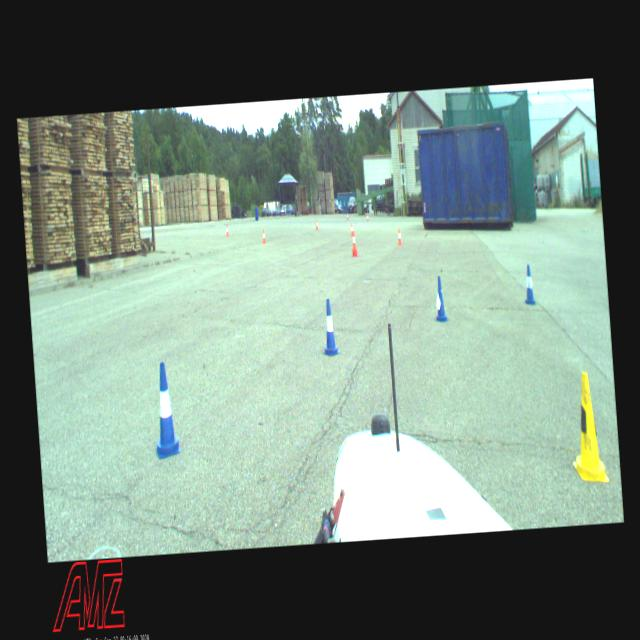blue_cone: (150, 361, 180, 458), (318, 298, 339, 356), (432, 276, 448, 322), (522, 264, 535, 304)
orange_cone: (351, 232, 356, 250), (397, 228, 402, 245), (261, 228, 266, 243), (351, 223, 354, 236), (315, 219, 318, 230), (226, 225, 228, 236), (346, 212, 348, 220), (366, 214, 368, 222)
yellow_cone: (566, 370, 608, 482)
